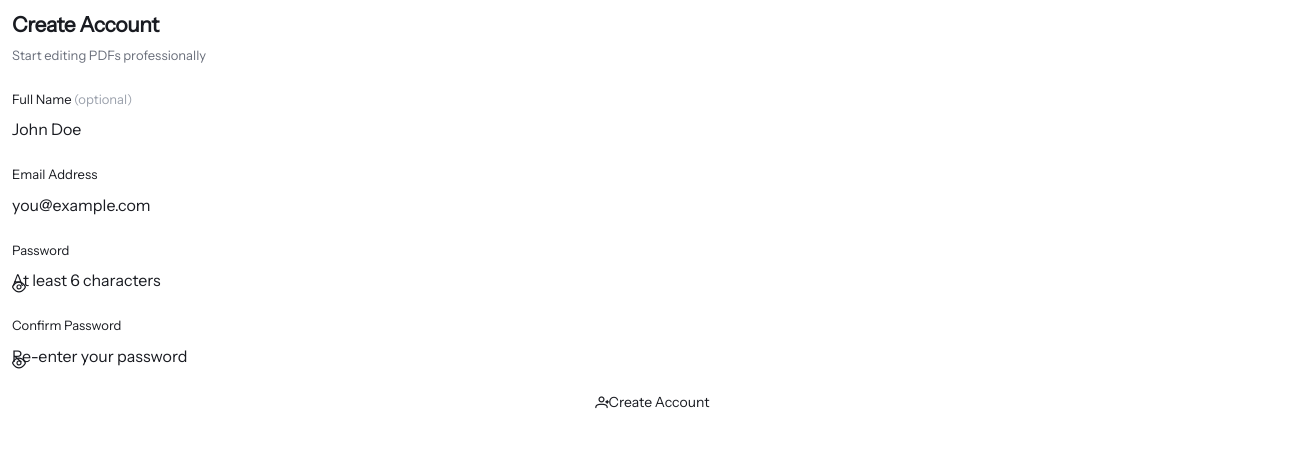
Scenario: RegisterForm › should validate password length
Type "test@test.com" into the field labelled "Email Address". click: x=652, y=205
box: x1=12 y1=193 x2=1292 y2=217
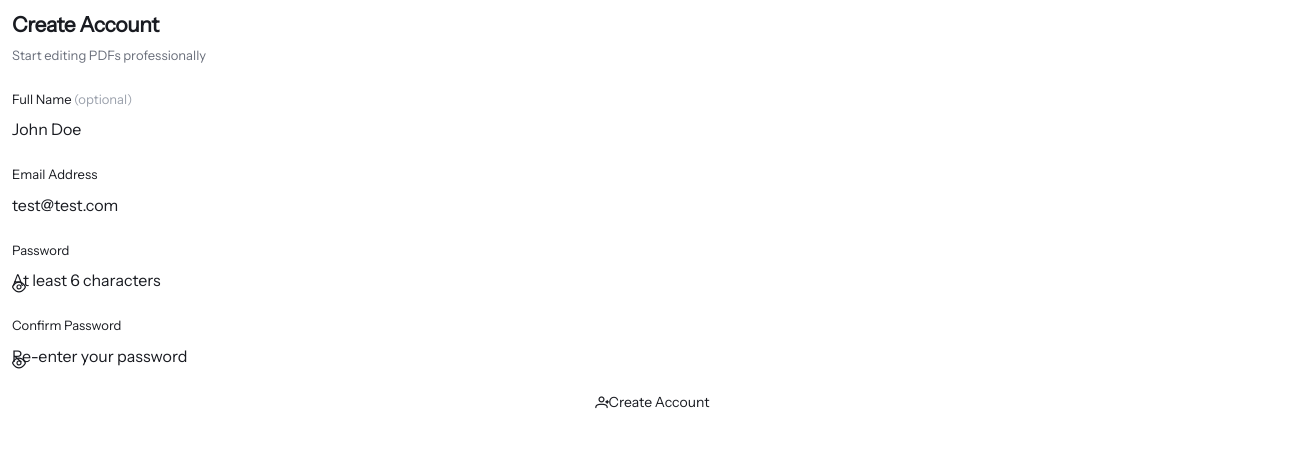
Type "123" into the password field with placeholder "At least 6 characters". click: x=652, y=280
box: x1=12 y1=268 x2=1292 y2=292
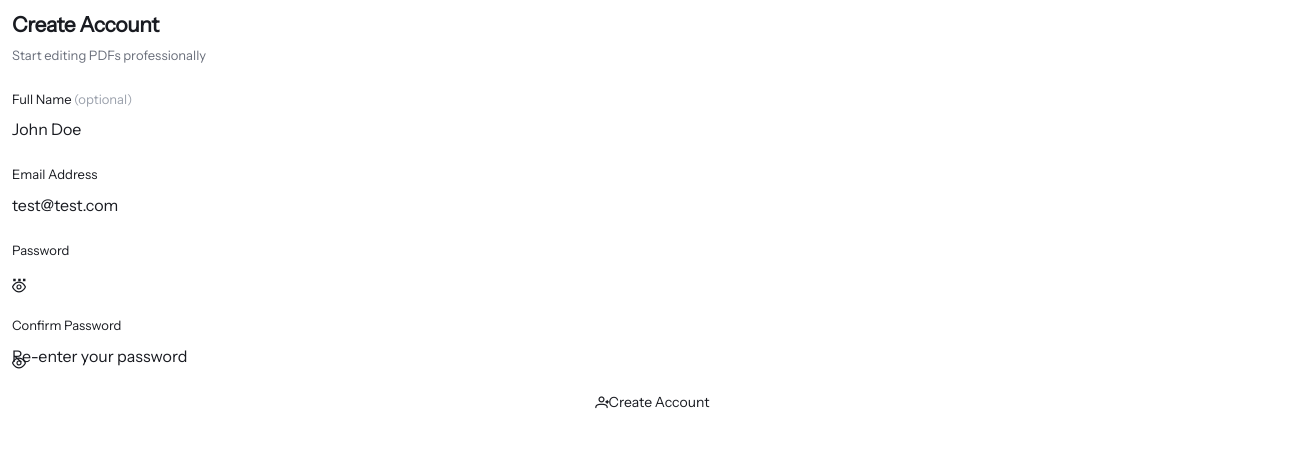
Submit the form
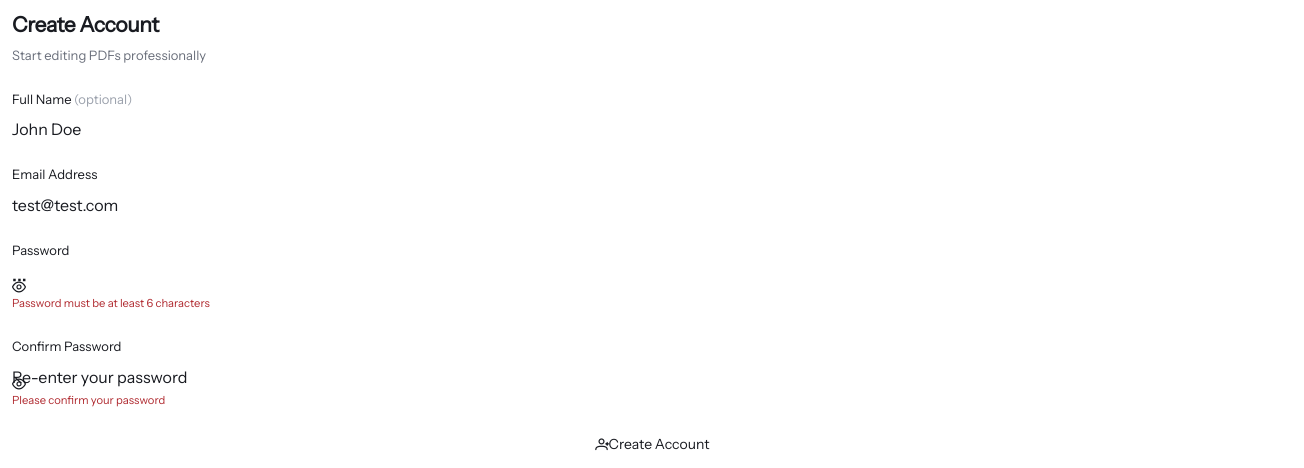
Now the form shows "at least 6 characters", box x1=12 y1=296 x2=210 y2=310
